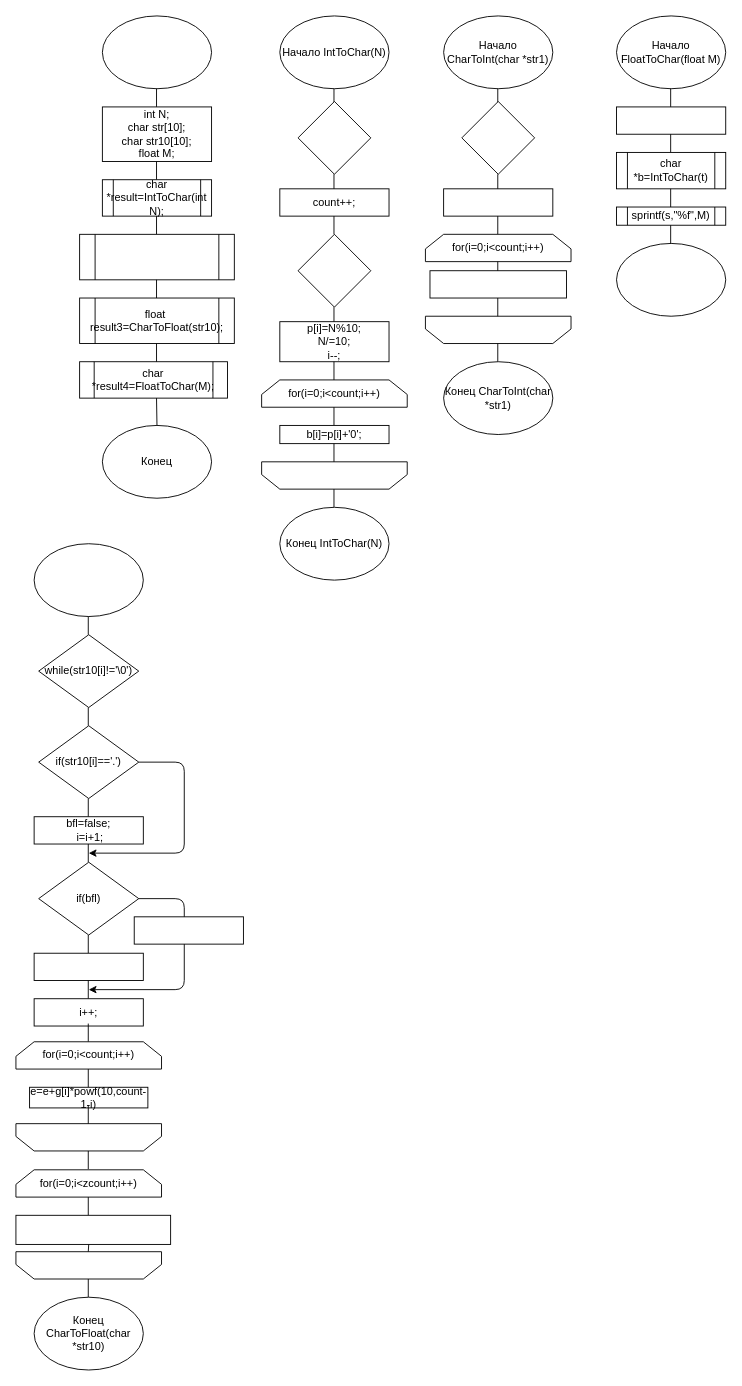
Some shapes in this 742 by 1386 pixel diagram are drawn without their labels. Here are the shapes that lost their labels. From the top down, the centre of each, then its label:
At [156,52]: "Начало".
At [334,137]: "while(m=m/10)".
At [498,137]: "while(str[i]!='\0')".
At [671,120]: "char *s=new char[10];".
At [498,202]: "p[i]=str1[i]='0'; i++;".
At [156,256]: "int *result2=CharToInt(str1);".
At [334,270]: "while(N)".
At [497,284]: "f=f+p[i]*powf(10,count-1-i);".
At [671,279]: "Конец FloatToChar(float M)".
At [88,580]: "Начало CharToFloat(char *str10)".
At [188,930]: "dr[zcount]=str10[i]='0'; zcount++;".
At [88,966]: "g[i]=str10[i]-'0'; count++;".
At [93,1229]: "ez=ez+dr[i]/powf(10,count1+i); e+=ez;".
